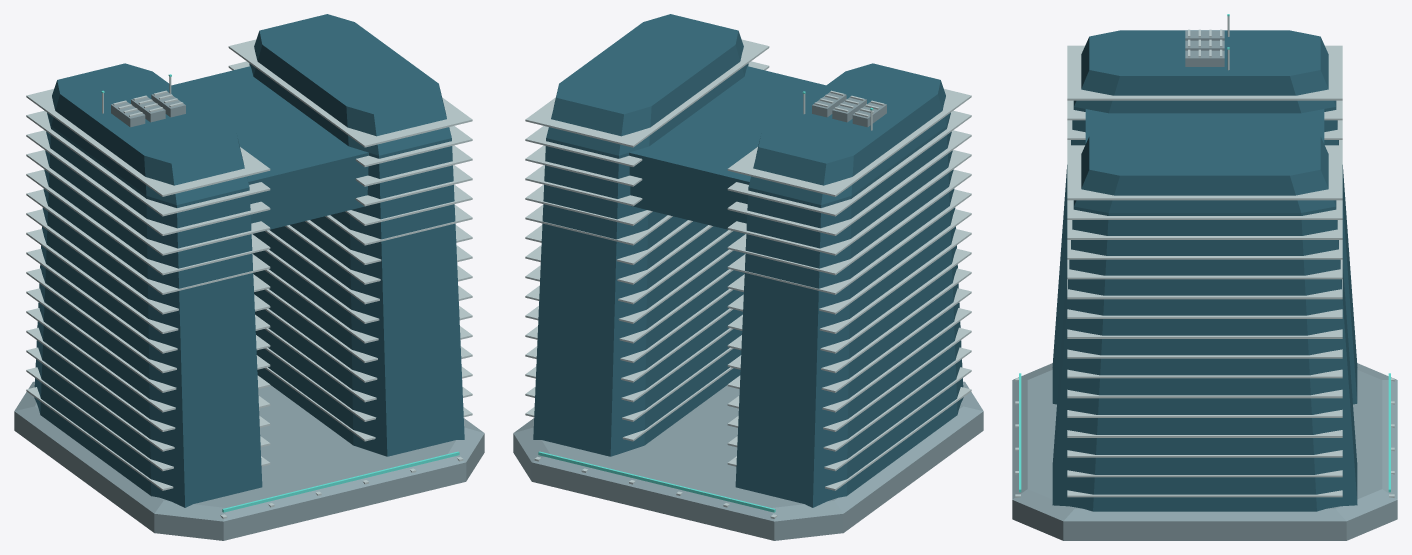
Rendered from TwinGate.fbx.
The picture shows the model from 3 angles, left to right: view 1: azimuth 30°, elevation 25°; view 2: azimuth 150°, elevation 25°; view 3: azimuth 270°, elevation 25°; orthographic projection.
Visible parts, largest first — view 1: Far FutureGlass, Near FutureMetal, Near FutureShell, Near FutureNeon; view 2: Far FutureGlass, Near FutureMetal, Near FutureShell, Near FutureNeon; view 3: Far FutureGlass, Near FutureMetal, Near FutureShell, Near FutureNeon.
Part boxes in pixels (bbox=[...]): Far FutureGlass: bbox=[34, 14, 464, 507]; Near FutureMetal: bbox=[26, 39, 472, 518]; Near FutureShell: bbox=[14, 92, 484, 540]; Near FutureNeon: bbox=[101, 74, 459, 512]; Far FutureGlass: bbox=[533, 14, 963, 507]; Near FutureMetal: bbox=[525, 39, 971, 518]; Near FutureShell: bbox=[513, 92, 983, 540]; Near FutureNeon: bbox=[538, 91, 873, 512]; Far FutureGlass: bbox=[1052, 30, 1357, 511]; Near FutureMetal: bbox=[1015, 16, 1394, 497]; Near FutureShell: bbox=[1012, 30, 1397, 540]; Near FutureNeon: bbox=[1019, 14, 1390, 492].
Size of what is drawn, in the model's own units: 98 by 106 by 98.
